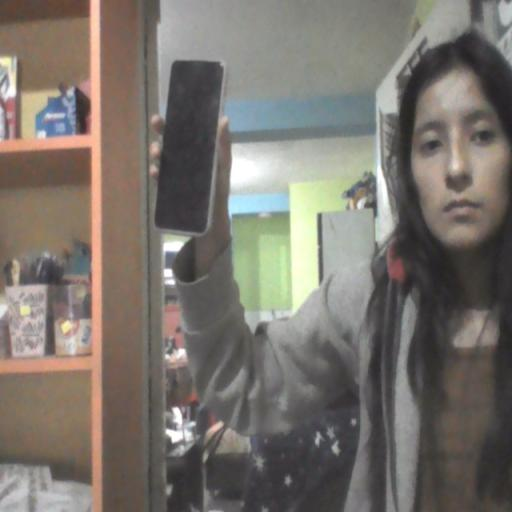phone: (151, 46, 230, 240)
